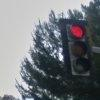traffic lights: (63, 22, 92, 79)
